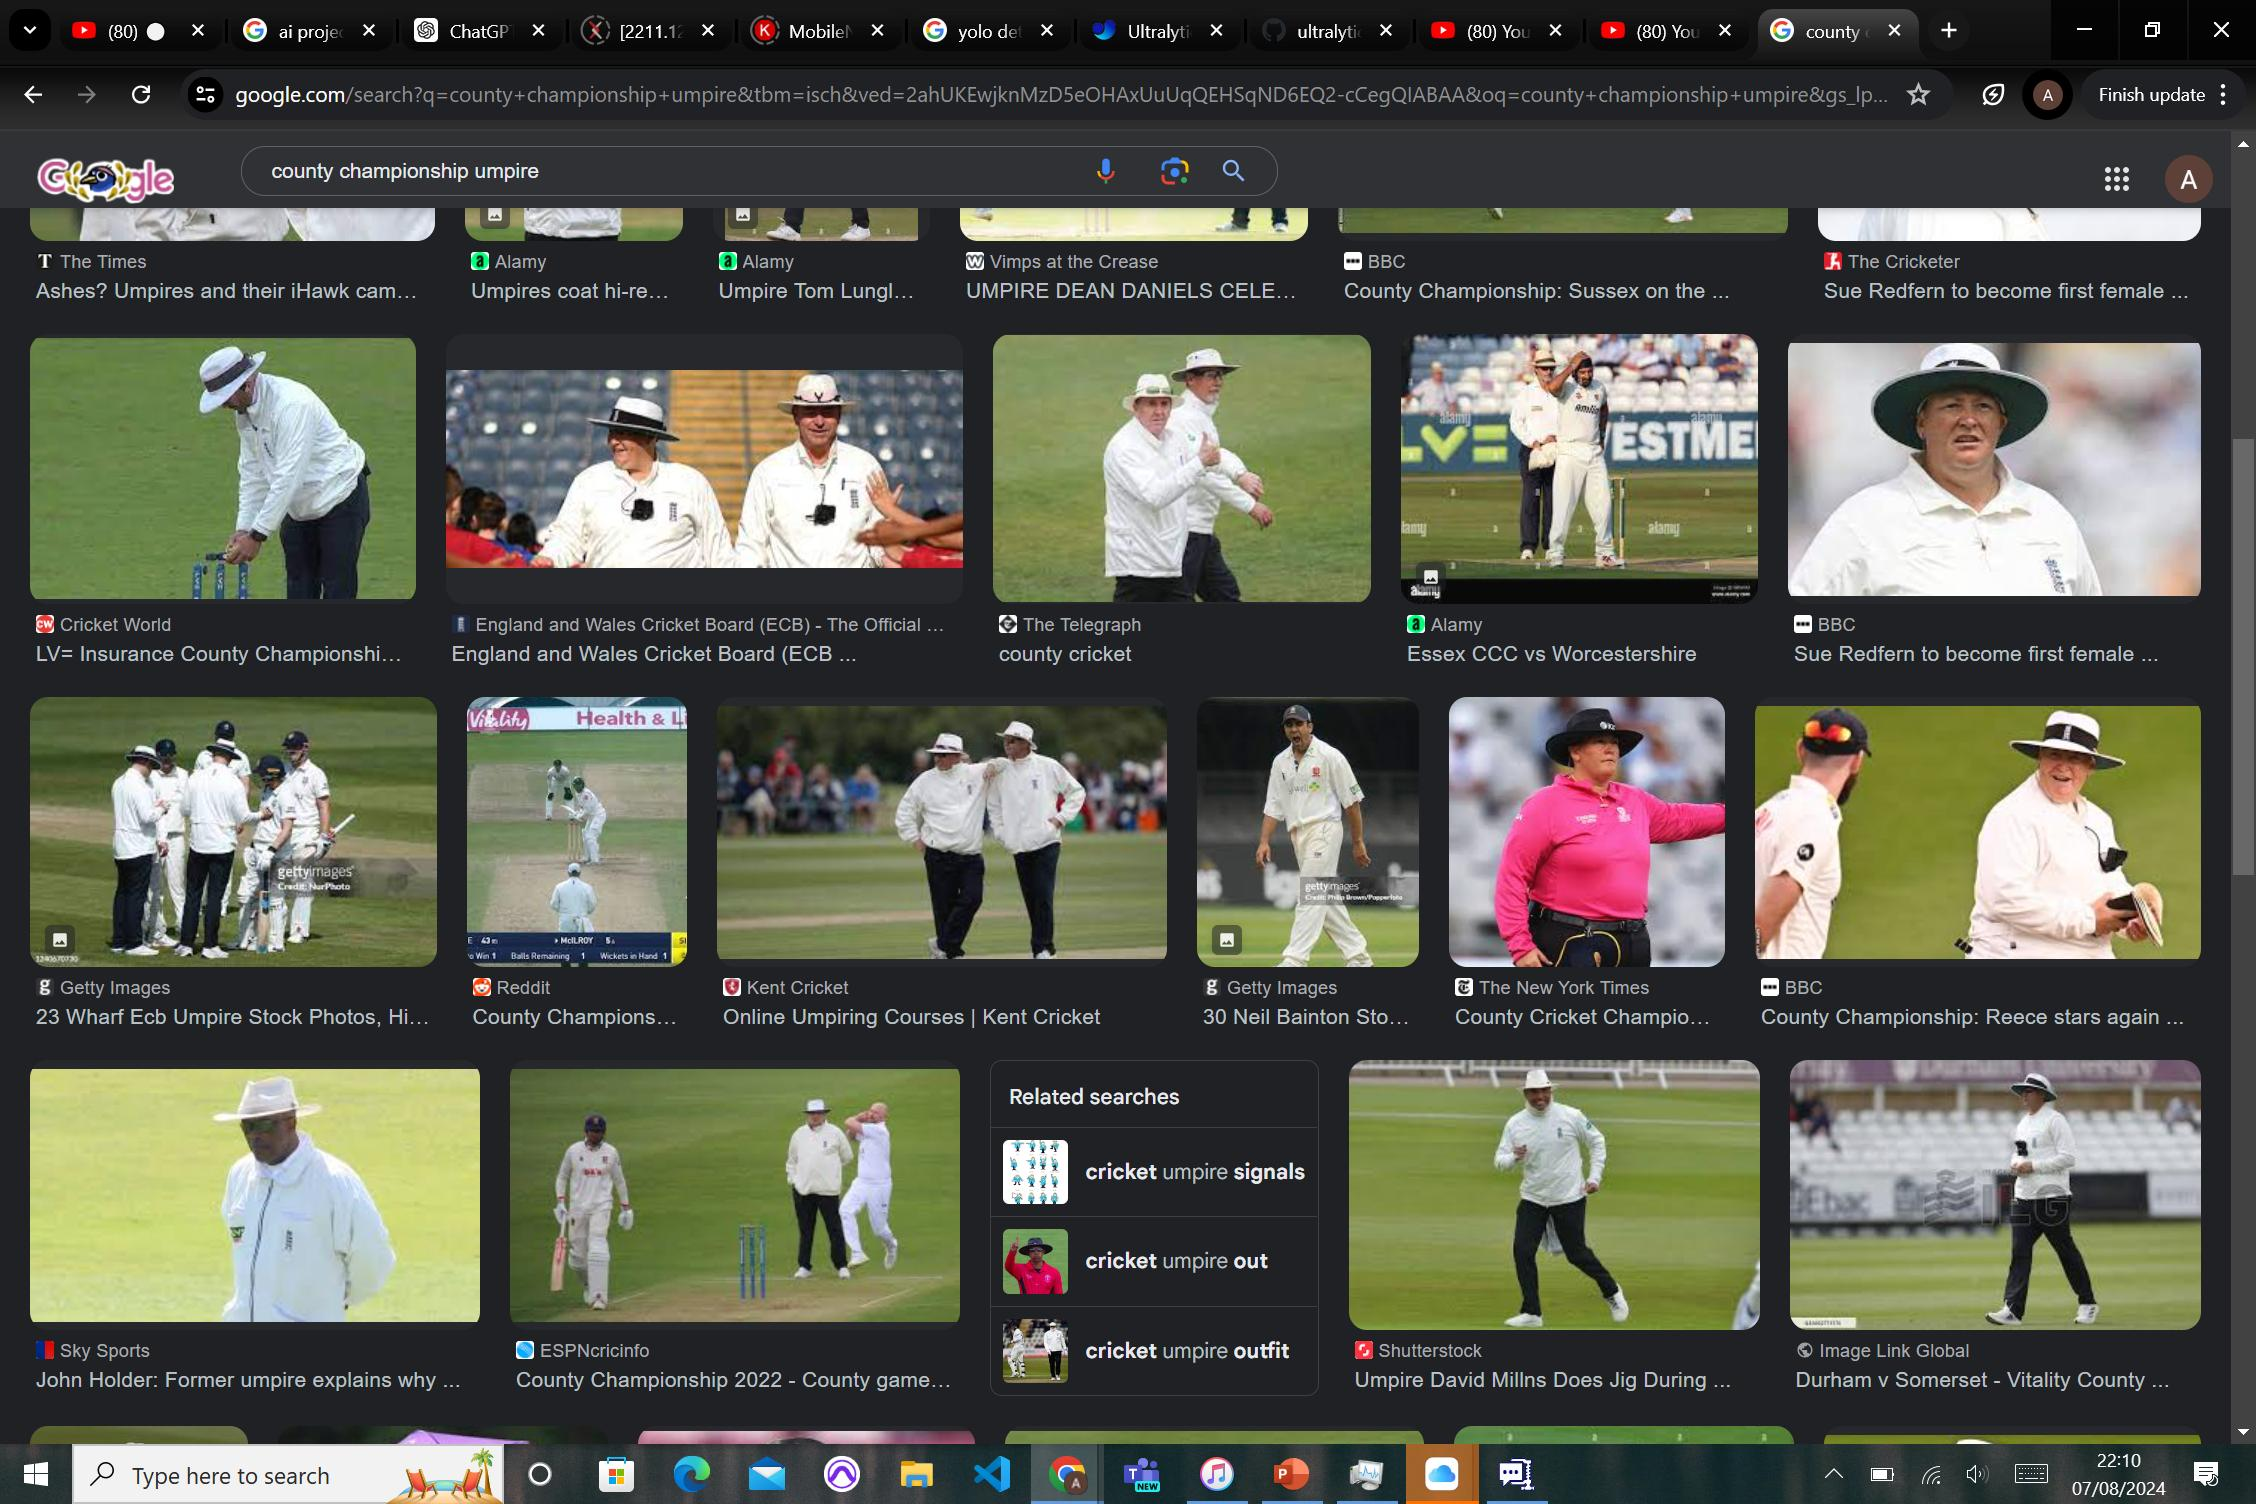umpire: (173, 1068, 386, 1328), (168, 341, 389, 586), (1474, 1052, 1647, 1346), (1986, 1068, 2102, 1339), (782, 1098, 849, 1274)
